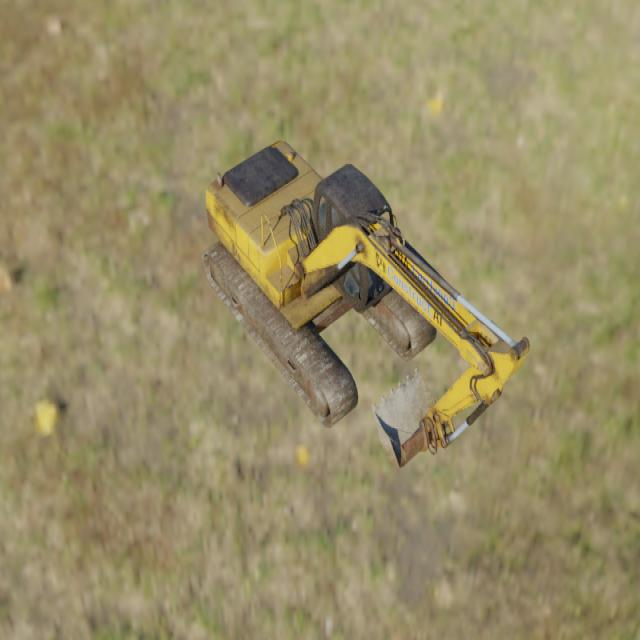excavator: (201, 139, 530, 468)
